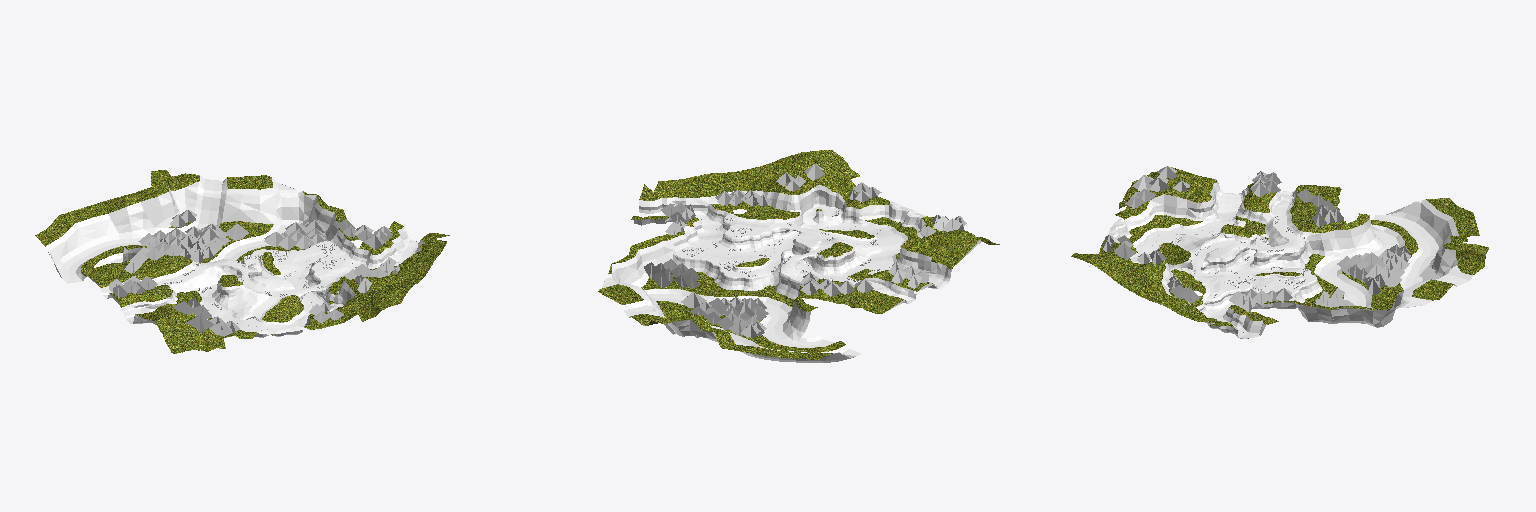
3 views of the same model, side by side, from view 1: azimuth 30°, elevation 25°; view 2: azimuth 150°, elevation 25°; view 3: azimuth 270°, elevation 25° (orthographic).
Visible parts, largest first — view 1: Object.409, Object.414, Object.403, Object.405, Object.408, Object.406, Object.401; view 2: Object.409, Object.414, Object.403, Object.405, Object.408, Object.406, Object.401; view 3: Object.409, Object.414, Object.403, Object.405, Object.408, Object.406, Object.401.
Boxes of the visible parts, x1=… form: Object.409: x1=35, y1=170, x2=449, y2=353; Object.414: x1=46, y1=175, x2=424, y2=337; Object.403: x1=109, y1=210, x2=396, y2=336; Object.405: x1=102, y1=238, x2=418, y2=331; Object.408: x1=101, y1=235, x2=418, y2=324; Object.406: x1=60, y1=179, x2=298, y2=283; Object.401: x1=128, y1=240, x2=416, y2=329; Object.409: x1=598, y1=150, x2=999, y2=359; Object.414: x1=608, y1=185, x2=951, y2=362; Object.403: x1=644, y1=164, x2=961, y2=337; Object.405: x1=639, y1=206, x2=947, y2=303; Object.408: x1=634, y1=196, x2=949, y2=303; Object.406: x1=601, y1=278, x2=860, y2=355; Object.401: x1=699, y1=219, x2=944, y2=287; Object.409: x1=1071, y1=167, x2=1488, y2=326; Object.414: x1=1104, y1=181, x2=1472, y2=332; Object.403: x1=1102, y1=166, x2=1439, y2=319; Object.405: x1=1136, y1=191, x2=1315, y2=338; Object.408: x1=1134, y1=187, x2=1317, y2=338; Object.406: x1=1320, y1=215, x2=1468, y2=326; Object.401: x1=1143, y1=193, x2=1268, y2=337.
Bounding box in the file's own units: 311 × 52.71 × 355.
Materials: 17 (1 with a texture image).